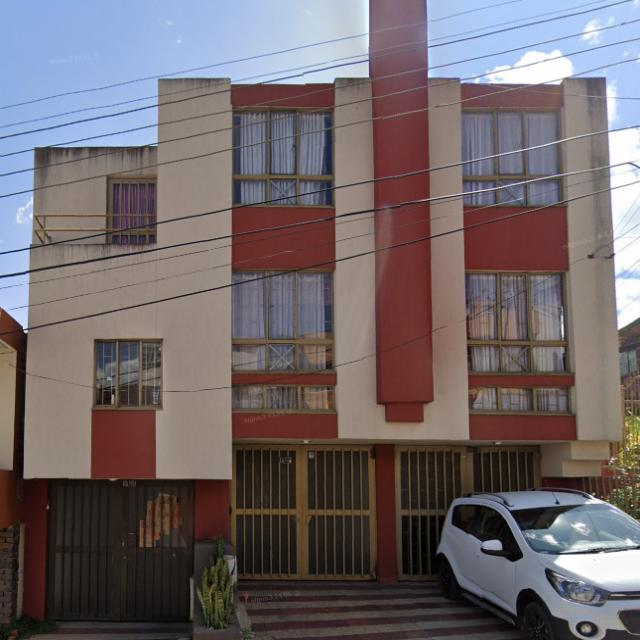Fachada: (25, 0, 622, 620)
